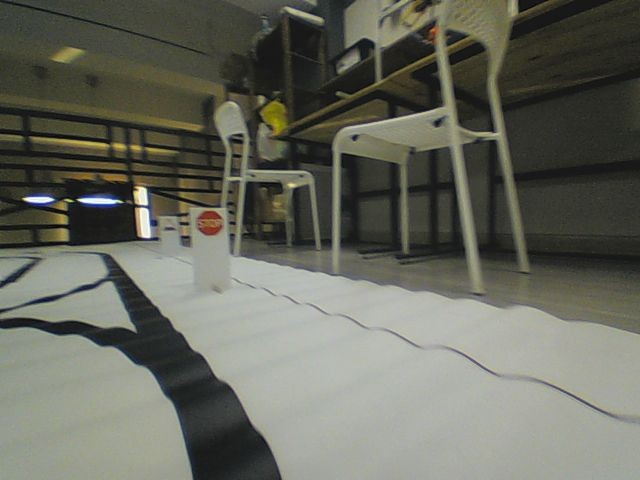Stop: (196, 209, 224, 236)
